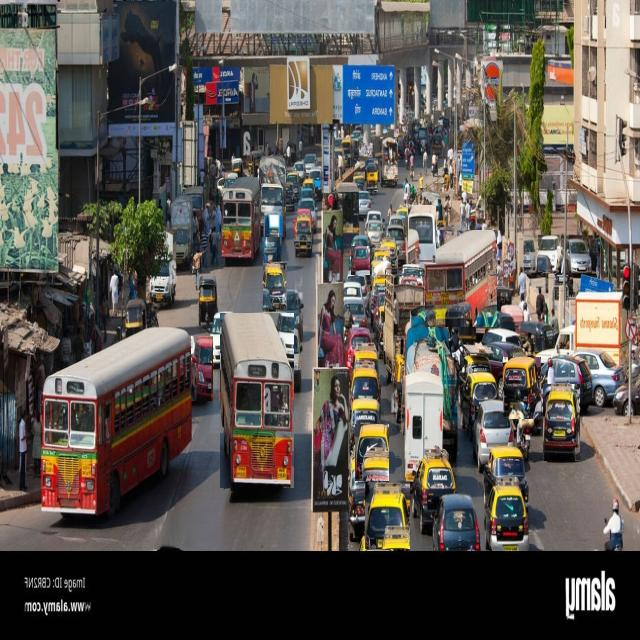autorickshaw: (199, 276, 218, 325), (365, 161, 378, 191)
bus: (41, 327, 191, 516), (220, 314, 294, 488), (425, 231, 496, 327), (221, 178, 262, 264), (408, 206, 436, 264)
car: (365, 482, 410, 549), (575, 349, 625, 407), (349, 452, 381, 541), (543, 384, 579, 461), (484, 445, 529, 502), (460, 372, 498, 438), (503, 357, 540, 419), (554, 357, 592, 412), (355, 425, 389, 481), (209, 311, 238, 367), (350, 399, 379, 448), (191, 336, 212, 401), (278, 289, 304, 338), (263, 264, 286, 309), (538, 236, 561, 273), (386, 224, 406, 265), (568, 239, 591, 274), (295, 219, 312, 256), (351, 246, 370, 275)
truck: (535, 291, 621, 364), (384, 264, 435, 381), (404, 372, 444, 487), (259, 159, 286, 237), (171, 196, 194, 267), (380, 138, 398, 185)
